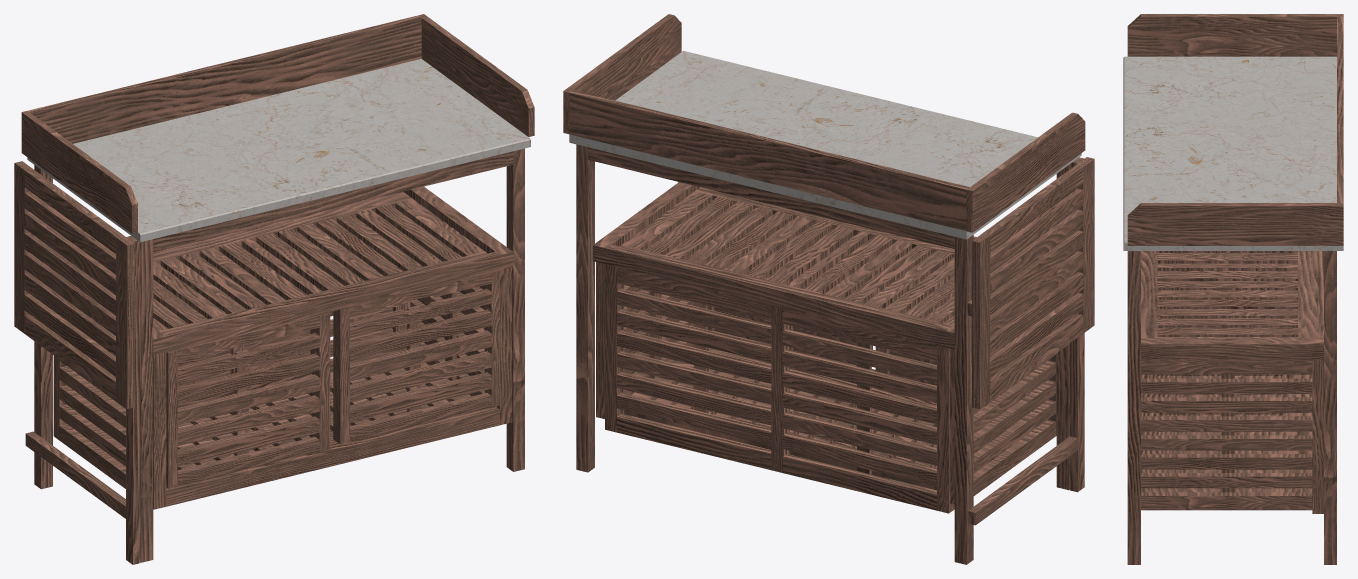
The model's file is workBenchM.gltf.
3 renders of one model, left to right at view 1: azimuth 30°, elevation 25°; view 2: azimuth 150°, elevation 25°; view 3: azimuth 270°, elevation 25°, orthographic. The views are drawn at different scales.
Parts seen in each view (by area): view 1: workBench, stoneBench, benchExtend, door, door1, legExtend1; view 2: workBench, stoneBench, benchExtend, legExtend1, door1; view 3: workBench, stoneBench.
Part boxes in pixels (box(x1,y1,x2,y2)): workBench: box(21, 14, 534, 562); stoneBench: box(27, 59, 530, 242); benchExtend: box(14, 161, 134, 408); door: box(166, 312, 330, 488); door1: box(333, 271, 502, 444); legExtend1: box(25, 236, 140, 564); workBench: box(563, 14, 1085, 564); stoneBench: box(569, 51, 1081, 239); benchExtend: box(972, 157, 1094, 409); legExtend1: box(967, 157, 1084, 525); door1: box(708, 306, 872, 366); workBench: box(1127, 14, 1343, 564); stoneBench: box(1123, 56, 1343, 250).
Bounding box in the file's own units: 10.48 × 9.1 × 5.
Materials: 2 (2 with a texture image).
